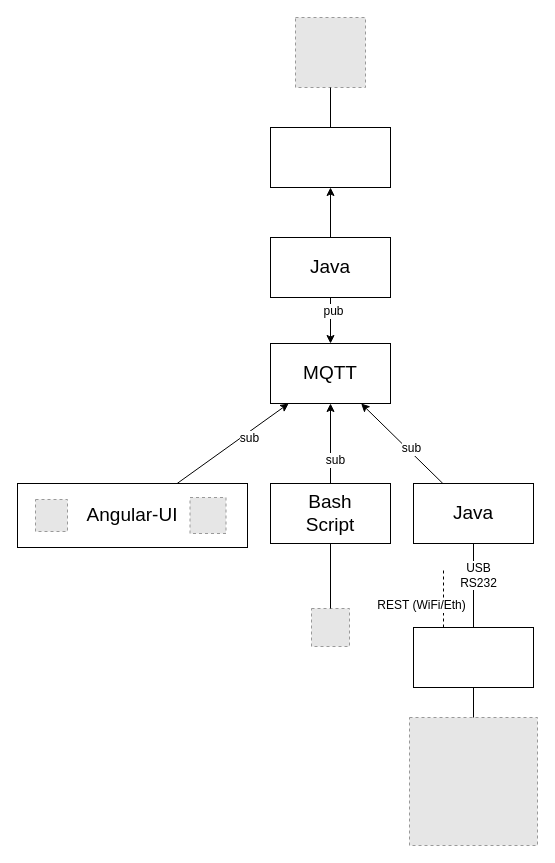
This 555x863 diagram has some shape labels left out. Grey dashed boxes stand in for pictures. The shapes that lost their labels are listed below. From the top down, each one's centre as x and y in pixels, then its label:
At pixel 330 157: "OpenCV + YOLOv3".
At pixel 473 657: "μC".
